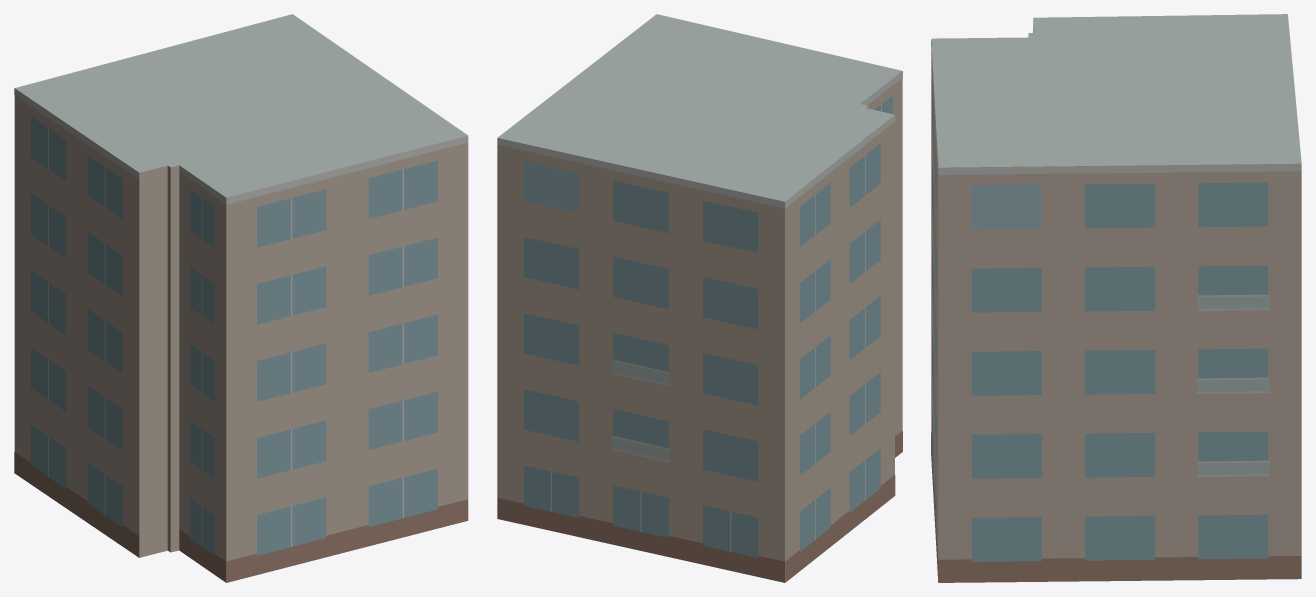
The model's file is survey-upis-32656694.glb.
3 views of the same model, side by side, from view 1: azimuth 30°, elevation 25°; view 2: azimuth 150°, elevation 25°; view 3: azimuth 270°, elevation 25° (orthographic). The views are drawn at different scales.
Parts seen in each view (by area): view 1: survey-upis-32656694.tmp; view 2: survey-upis-32656694.tmp; view 3: survey-upis-32656694.tmp.
Part boxes in pixels (bbox=[...]): survey-upis-32656694.tmp: bbox=[14, 14, 468, 582]; survey-upis-32656694.tmp: bbox=[497, 14, 902, 582]; survey-upis-32656694.tmp: bbox=[931, 14, 1301, 582].
Size of the model in its own units: 10.87 by 13.7 by 11.09.
